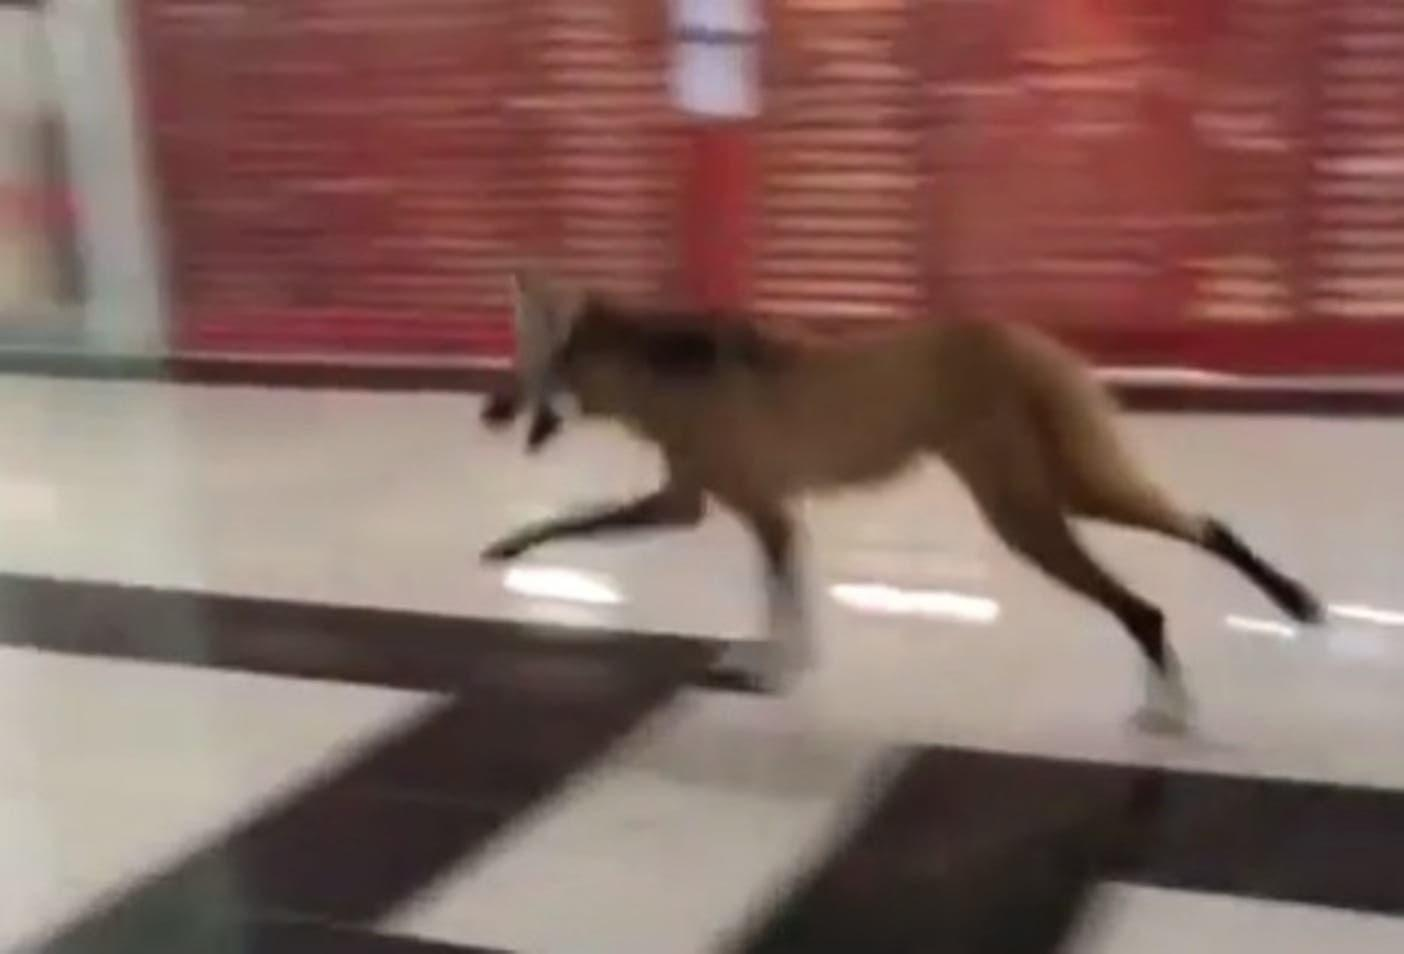LoboGuara: (465, 261, 1322, 741)
